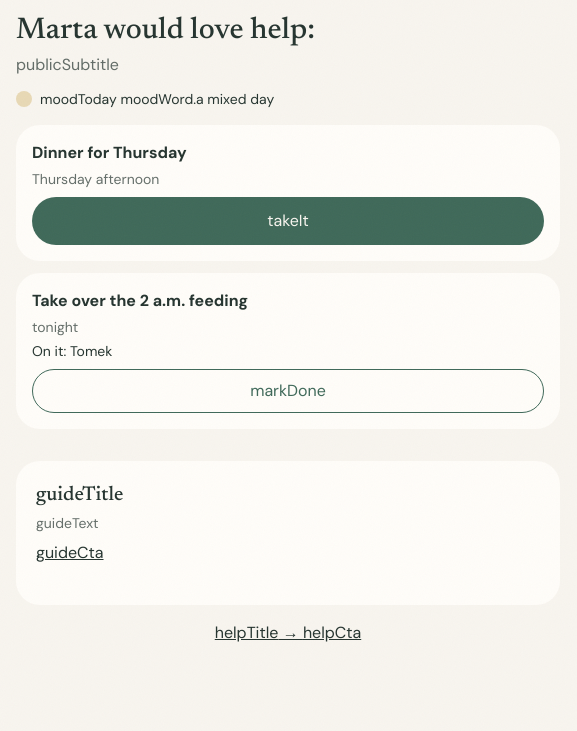
PublicCirclePage (no auth) › claim flow asks for a name and thanks
Click the button "takeIt" at (288, 221), box [32,197,544,245]
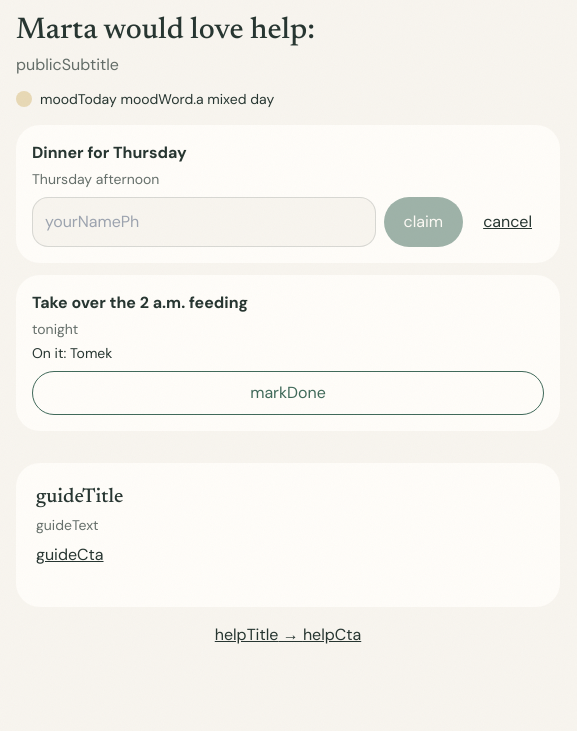
Type "Ola" into the field with placeholder "yourNamePh" at (204, 222), box [32,197,376,247]
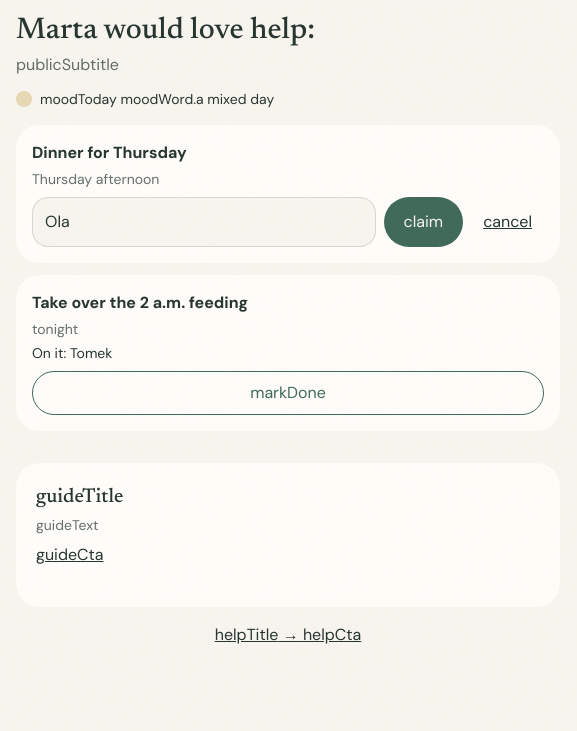
Click the button "claim" at (423, 222), box [384,197,463,247]
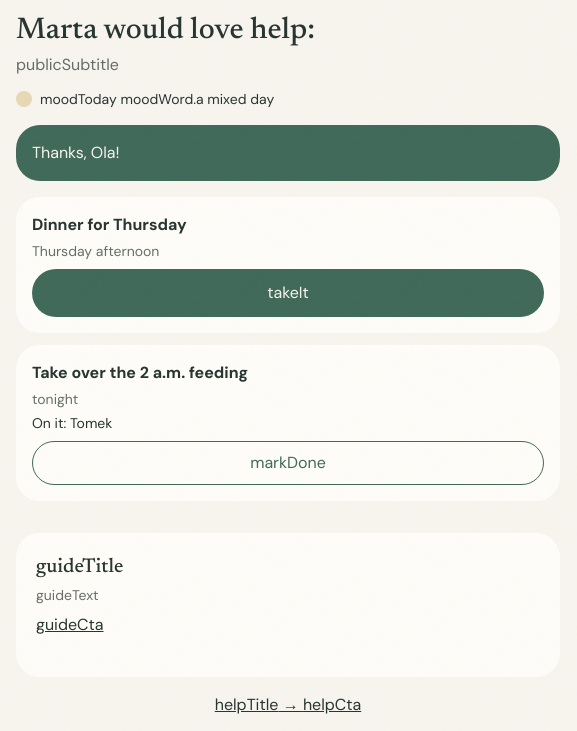
Check: the text "Thanks, Ola!" is shown, box [16,125,560,181]
